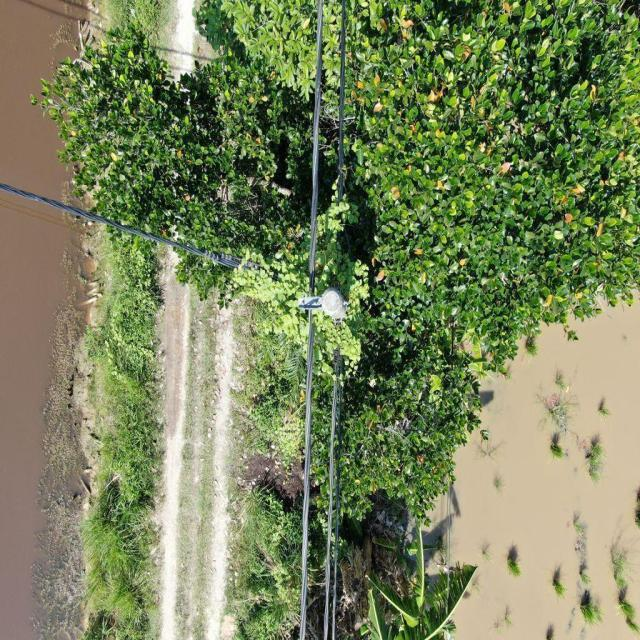critical vegetation: (246, 202, 370, 366)
